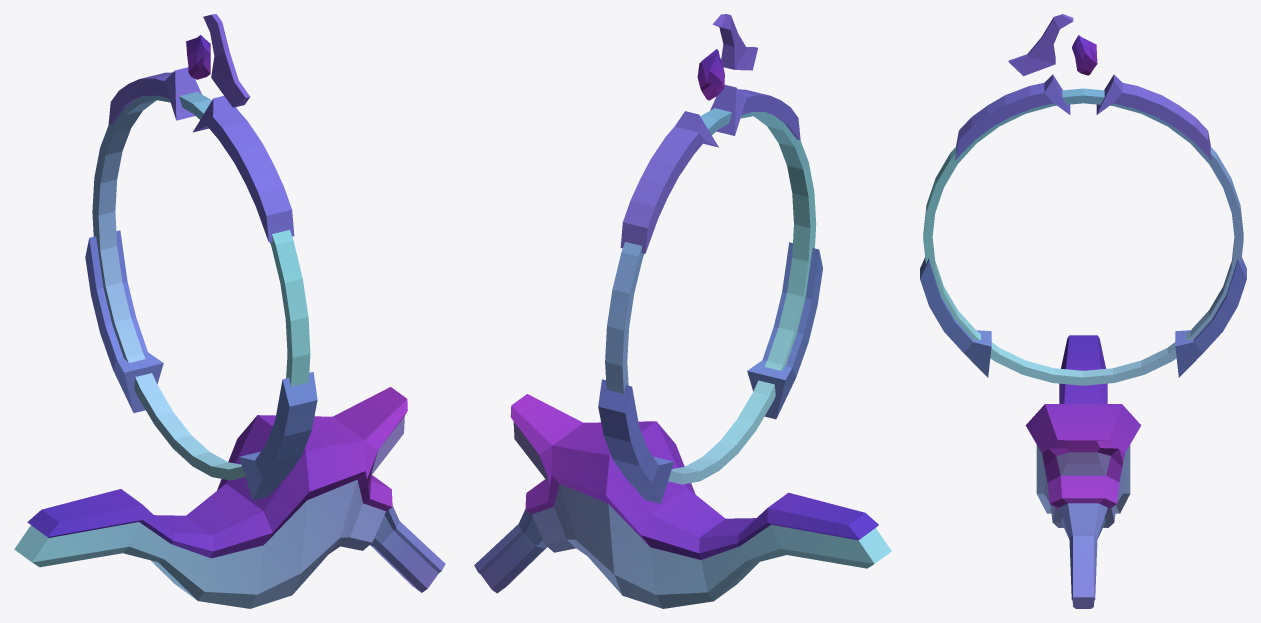
Rendered from bubble_gun_mesh.fbx.
The picture shows the model from 3 angles, left to right: view 1: azimuth 30°, elevation 25°; view 2: azimuth 150°, elevation 25°; view 3: azimuth 270°, elevation 25°; orthographic projection. The views are drawn at different scales.
Visible parts, largest first — view 1: Cube, Circle, Circle.001, Circle.003; view 2: Cube, Circle, Circle.001, Circle.003; view 3: Circle, Cube, Circle.001, Circle.003.
Part boxes in pixels (box(x1,y1,x2,y2)): Cube: box(14, 387, 445, 608); Circle: box(85, 67, 317, 500); Circle.001: box(203, 14, 250, 107); Circle.003: box(186, 35, 210, 79); Cube: box(474, 394, 891, 608); Circle: box(598, 85, 822, 503); Circle.001: box(712, 14, 757, 70); Circle.003: box(697, 49, 724, 100); Circle: box(920, 74, 1246, 385); Cube: box(1025, 335, 1141, 608); Circle.001: box(1008, 14, 1073, 76); Circle.003: box(1072, 35, 1097, 75).
Bounding box in the file's own units: 81.01 × 119 × 68.89.
